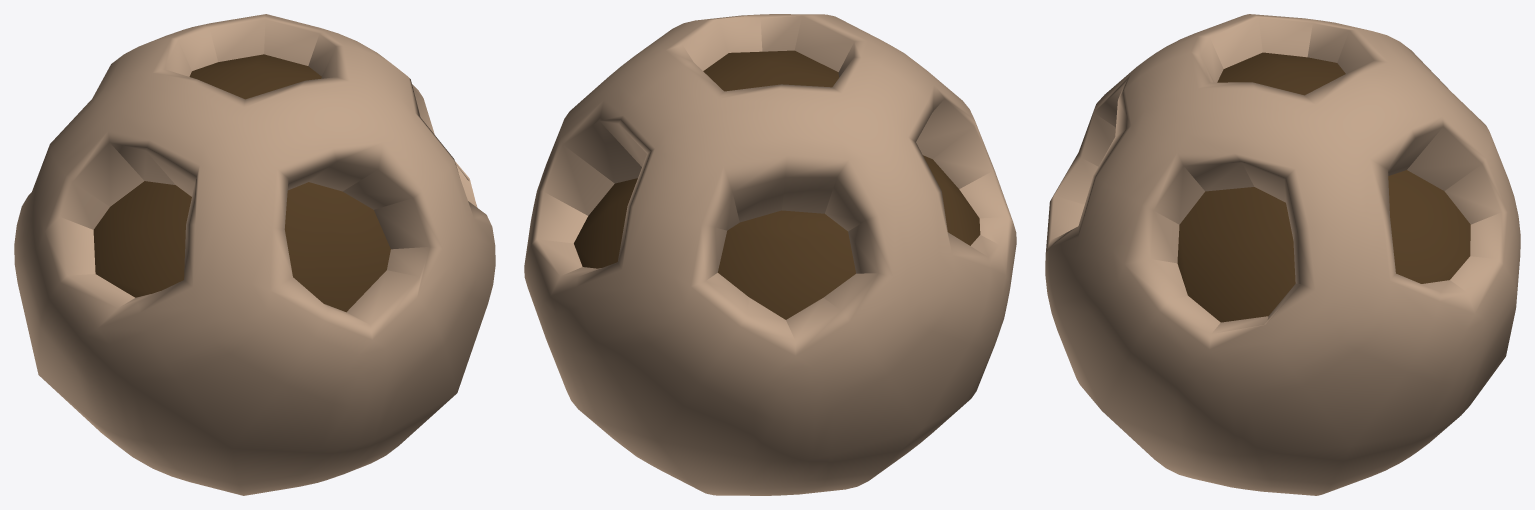
The model's file is soccerball_flowerpot 1.fbx.
The picture shows the model from 3 angles, left to right: view 1: azimuth 30°, elevation 25°; view 2: azimuth 150°, elevation 25°; view 3: azimuth 270°, elevation 25°; orthographic projection. The views are drawn at different scales.
Visible parts, largest first — view 1: soccerball_flowerpot; view 2: soccerball_flowerpot; view 3: soccerball_flowerpot.
Boxes of the visible parts, x1,y1,x2,y2 form: soccerball_flowerpot: (14,14,495,495); soccerball_flowerpot: (524,14,1016,495); soccerball_flowerpot: (1045,14,1520,495).
Size of the model in its own units: 195 by 182 by 190.
